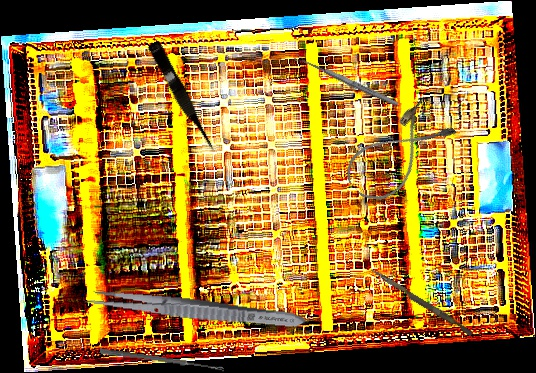Cannula: (338, 94, 459, 211)
Dressing Forceps: (82, 286, 307, 333)
Micro Scissor: (144, 39, 220, 157)
Pusher: (367, 267, 475, 337)
Surgical Spoon: (293, 53, 400, 108), (99, 348, 225, 372)
